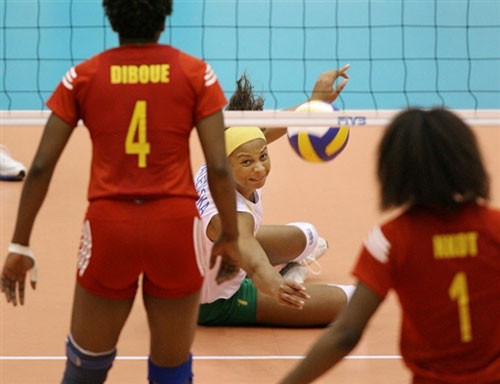fall: (180, 104, 362, 360)
